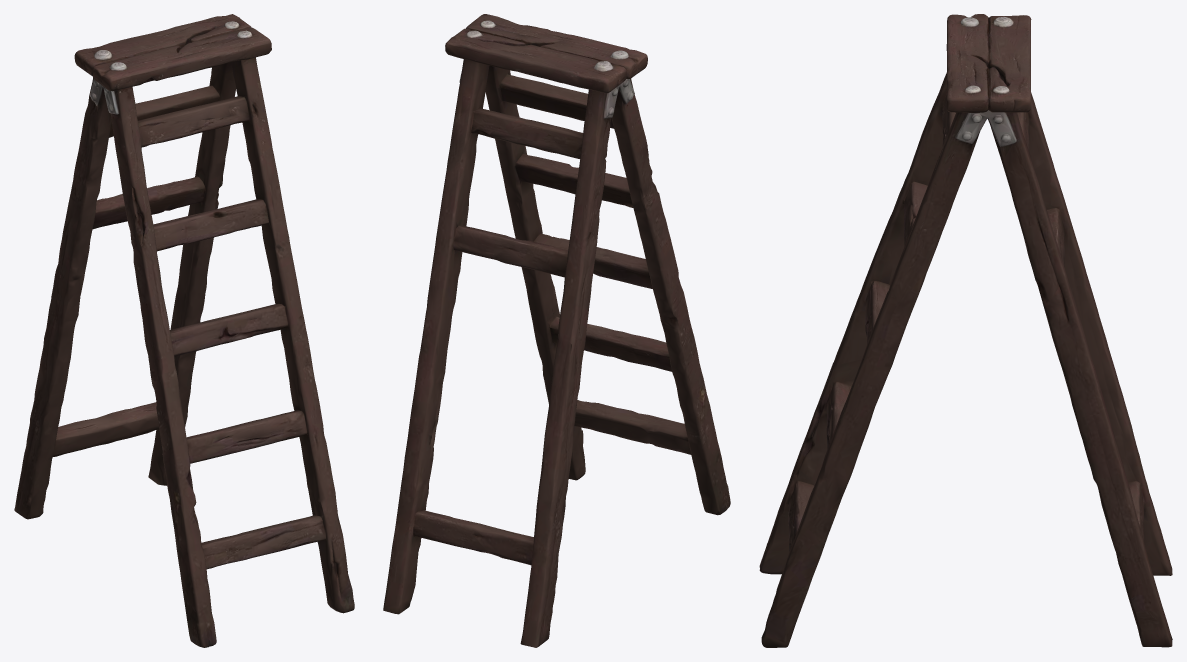
The model's file is mine_ladder_idle.glb.
3 views of the same model, side by side, from view 1: azimuth 30°, elevation 25°; view 2: azimuth 150°, elevation 25°; view 3: azimuth 270°, elevation 25° (orthographic). The views are drawn at different scales.
Parts seen in each view (by area): view 1: tripo_node_b39c6df3-3c06-4956-8ce4-a5c067c7d262; view 2: tripo_node_b39c6df3-3c06-4956-8ce4-a5c067c7d262; view 3: tripo_node_b39c6df3-3c06-4956-8ce4-a5c067c7d262.
Part boxes in pixels (x1,y1,x2,y2): tripo_node_b39c6df3-3c06-4956-8ce4-a5c067c7d262: [14, 14, 354, 647]; tripo_node_b39c6df3-3c06-4956-8ce4-a5c067c7d262: [383, 14, 730, 647]; tripo_node_b39c6df3-3c06-4956-8ce4-a5c067c7d262: [759, 14, 1172, 647].
Bounding box in the file's own units: 0.9901 × 3 × 2.02.
Materials: 1 (1 with a texture image).
